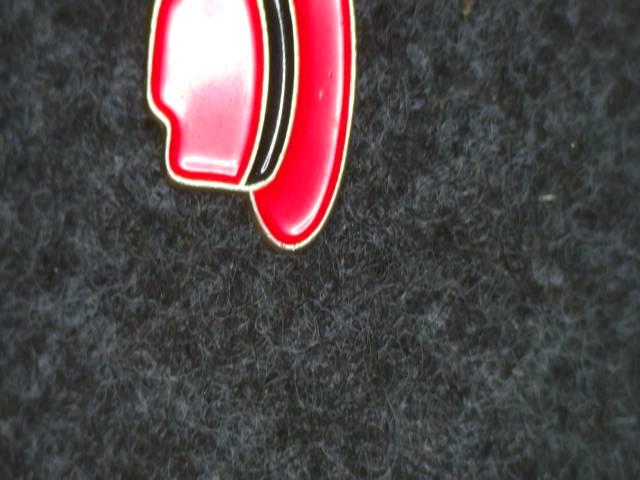Red-Hat: (139, 0, 369, 290)
